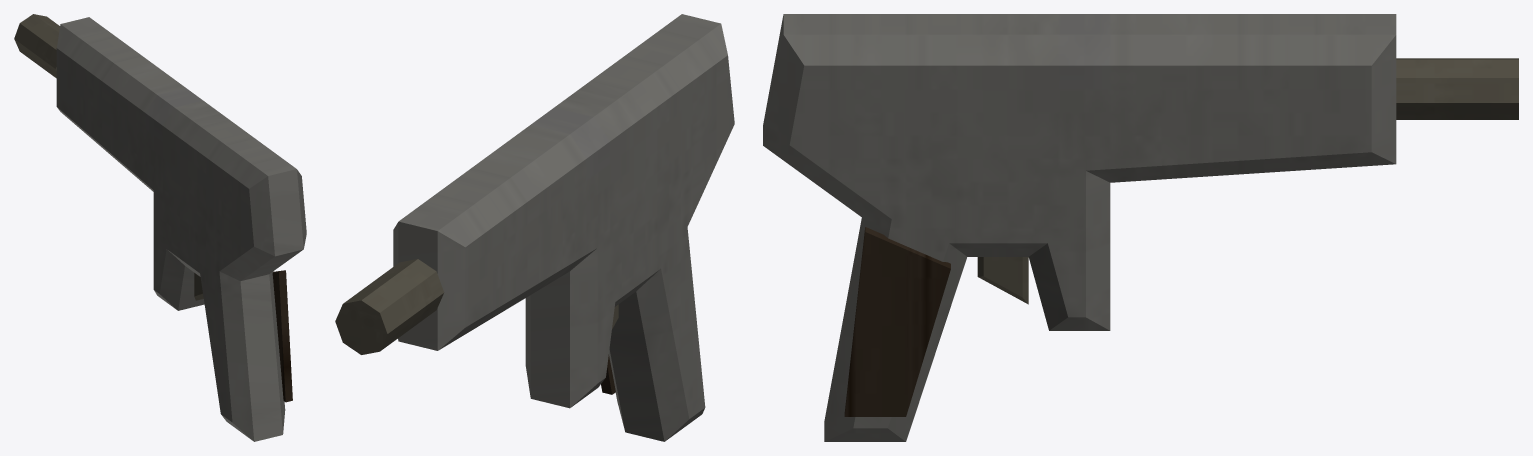
The model's file is wpn_gun_common.glb.
The picture shows the model from 3 angles, left to right: view 1: azimuth 30°, elevation 25°; view 2: azimuth 150°, elevation 25°; view 3: azimuth 270°, elevation 25°; orthographic projection. The views are drawn at different scales.
Parts seen in each view (by area): view 1: wpn_gun_common; view 2: wpn_gun_common; view 3: wpn_gun_common.
Boxes of the visible parts, bbox=[...] form: wpn_gun_common: bbox=[14, 14, 306, 441]; wpn_gun_common: bbox=[335, 14, 734, 441]; wpn_gun_common: bbox=[763, 14, 1518, 441].
Size of the model in its own units: 0.048 by 0.22 by 0.37.
3 materials, 3 textured.
